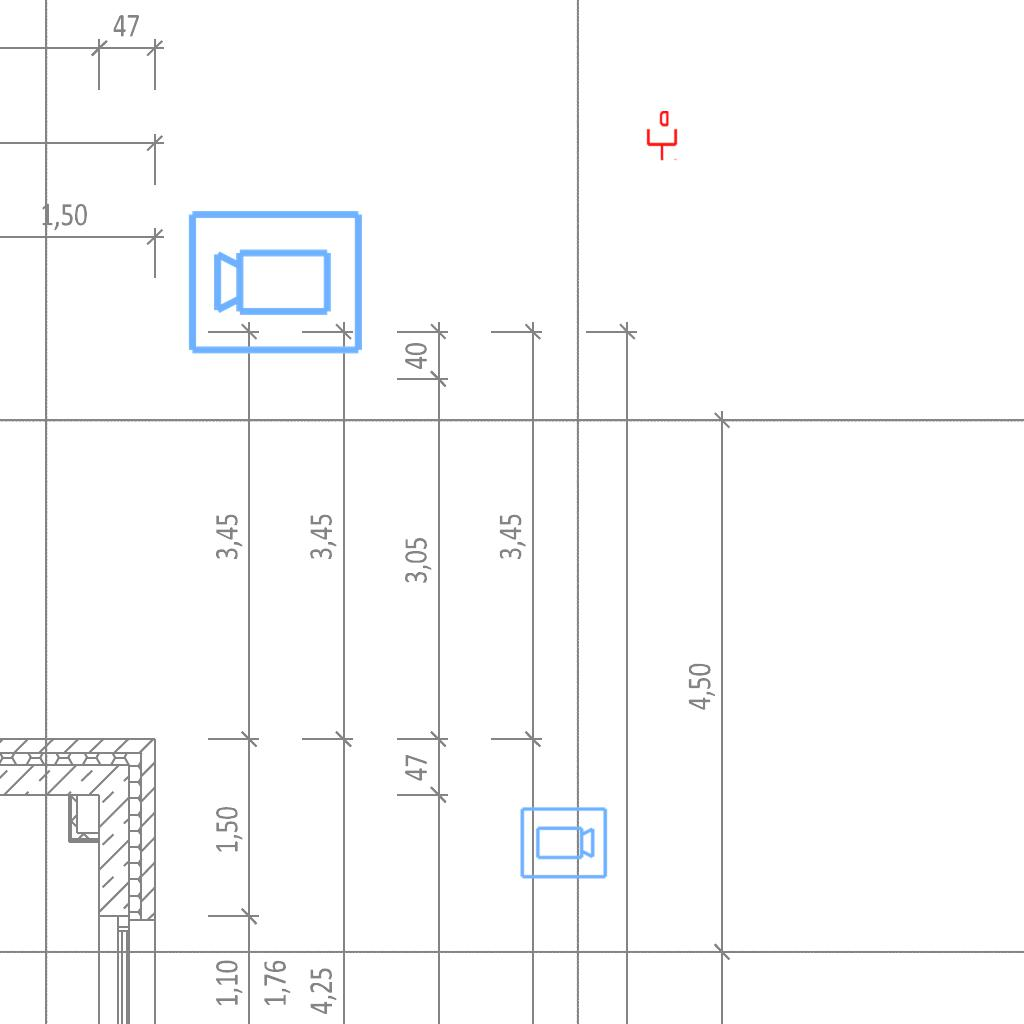Datenanschluss_einfach: (645, 111, 679, 161)
KFO_Kamera_mit_Festobjektiv: (185, 204, 367, 358), (518, 805, 609, 882)
